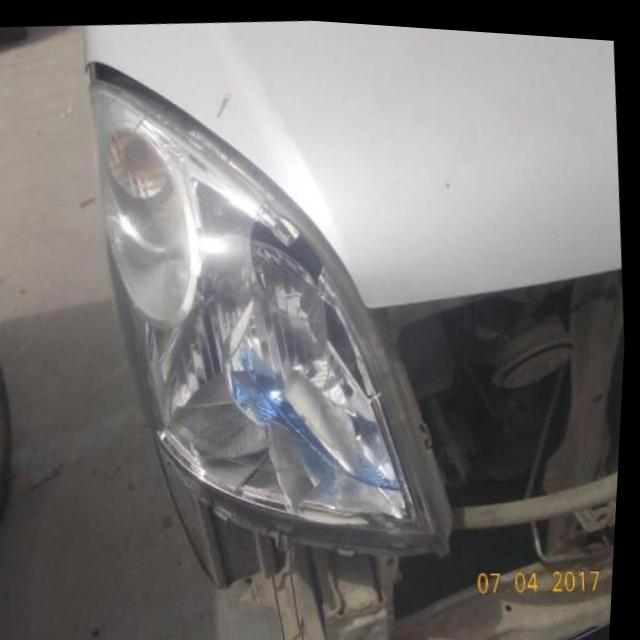Car-Damage: (140, 234, 631, 640), (191, 193, 430, 523)
